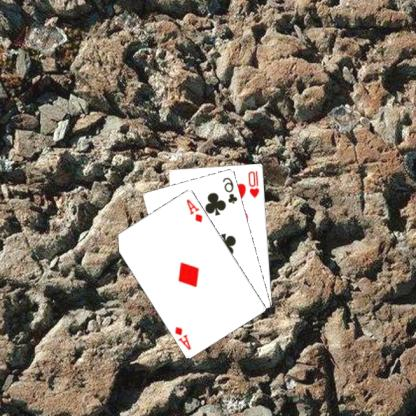10H: (247, 168, 263, 199)
6C: (221, 174, 241, 205)
AD: (173, 323, 194, 351), (185, 196, 206, 223)
